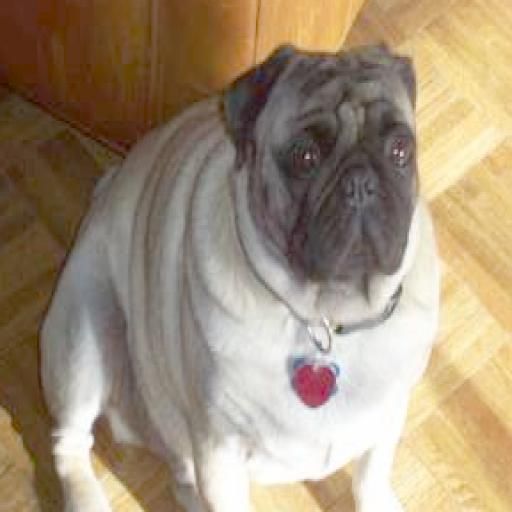dog_face: (231, 38, 434, 284)
